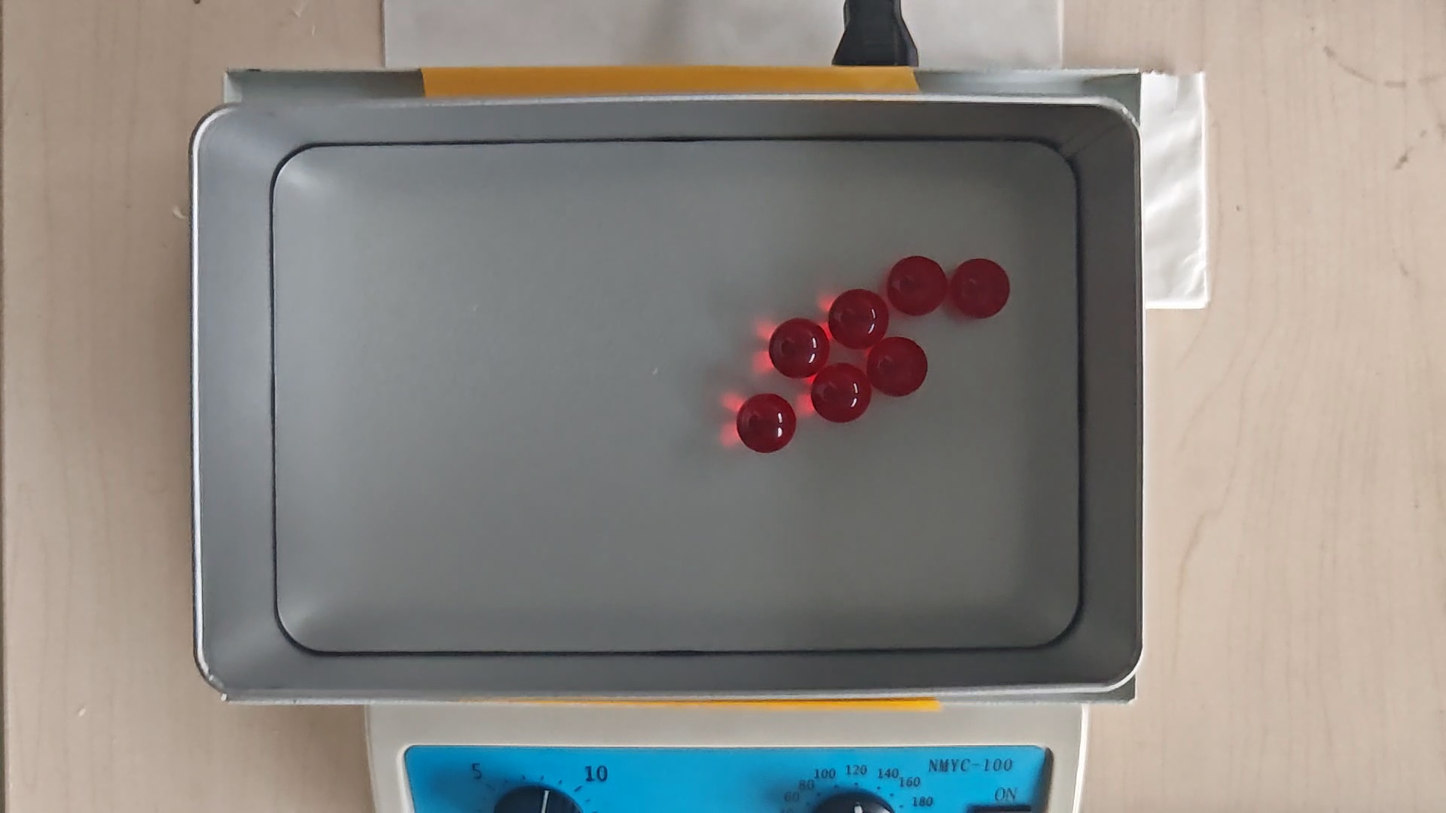ball: (888, 256, 946, 318), (867, 338, 927, 397), (769, 318, 828, 377), (739, 393, 795, 455), (830, 289, 888, 348), (952, 258, 1008, 318), (813, 364, 869, 422)
container: (270, 139, 1079, 650)
